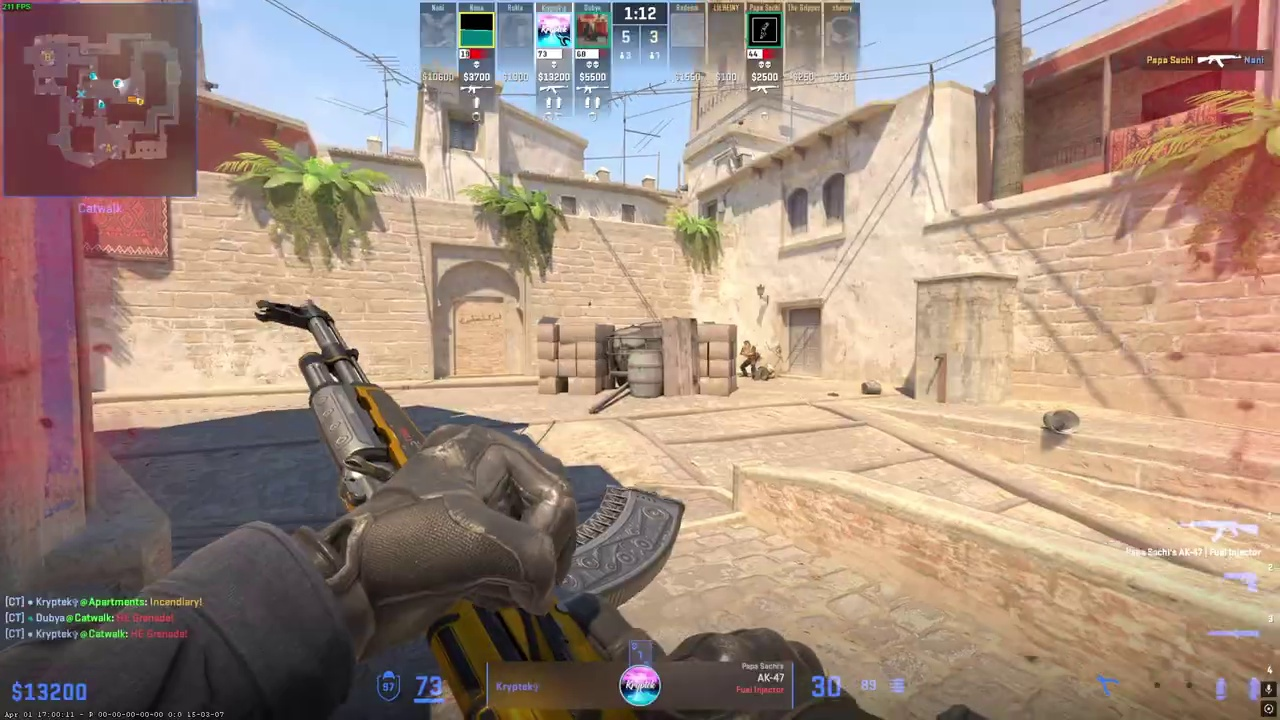Terrorist: (740, 340, 756, 378)
